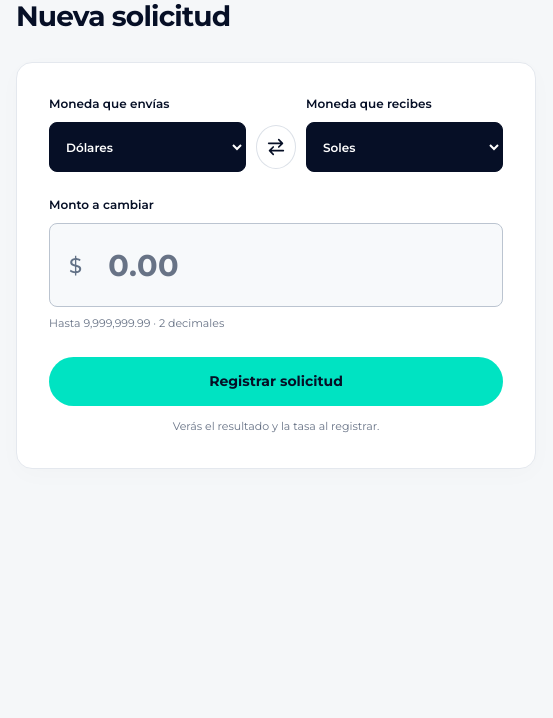
formulario de cambio › presenta el resultado registrado y la tasa del servidor sin una cotización ficticia
Type "100" into the field with id "exchange-amount" at (276, 265), box [49, 223, 503, 307]
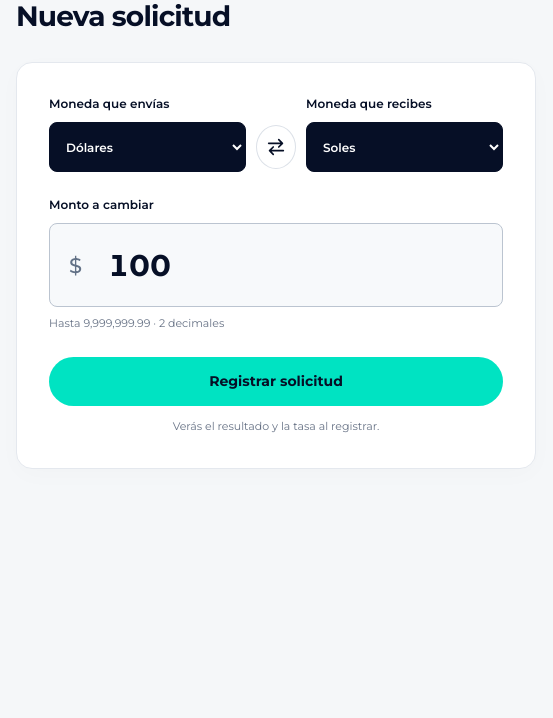
Submit the form, box [49, 95, 503, 436]
(page scrolled)
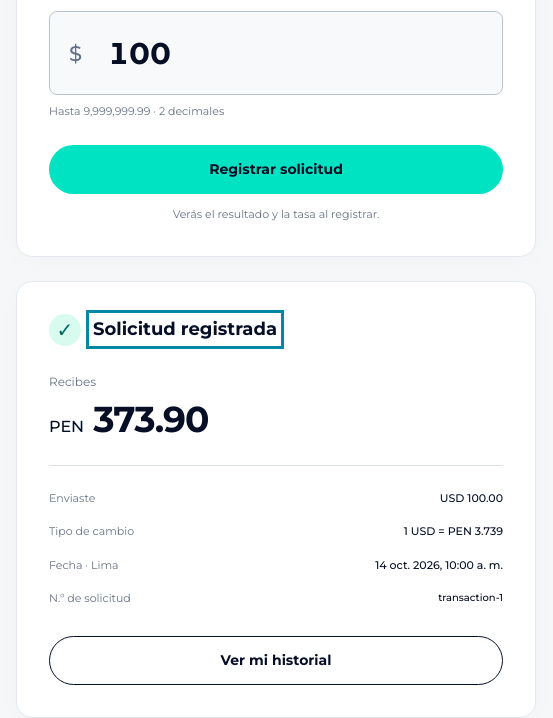
Expected: the element with test id "transaction-result" shows "373.90", [84, 397, 208, 441]
Expected: the element with test id "transaction-result" shows "3.739", [404, 524, 503, 538]
Expected: the text with test id "transaction-id" reads "transaction-1", [438, 591, 503, 604]
